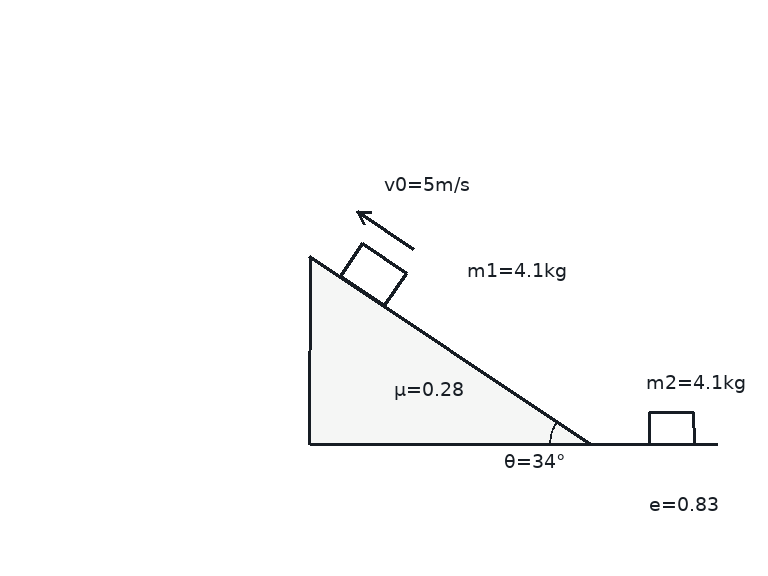block: (338, 241, 408, 307), (647, 410, 695, 446)
ramp: (308, 253, 592, 446)
